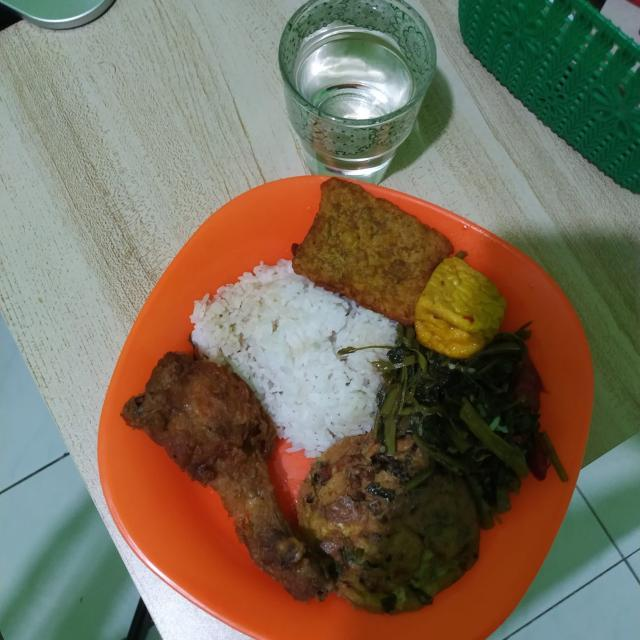ayam_goreng: (128, 326, 336, 593)
nasi_putih: (194, 263, 430, 444)
telur_ayam_dadar: (288, 428, 516, 626)
